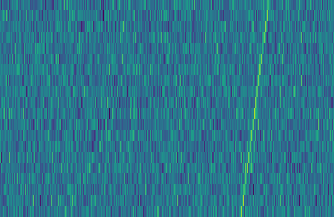signal: (238, 0, 276, 217)
